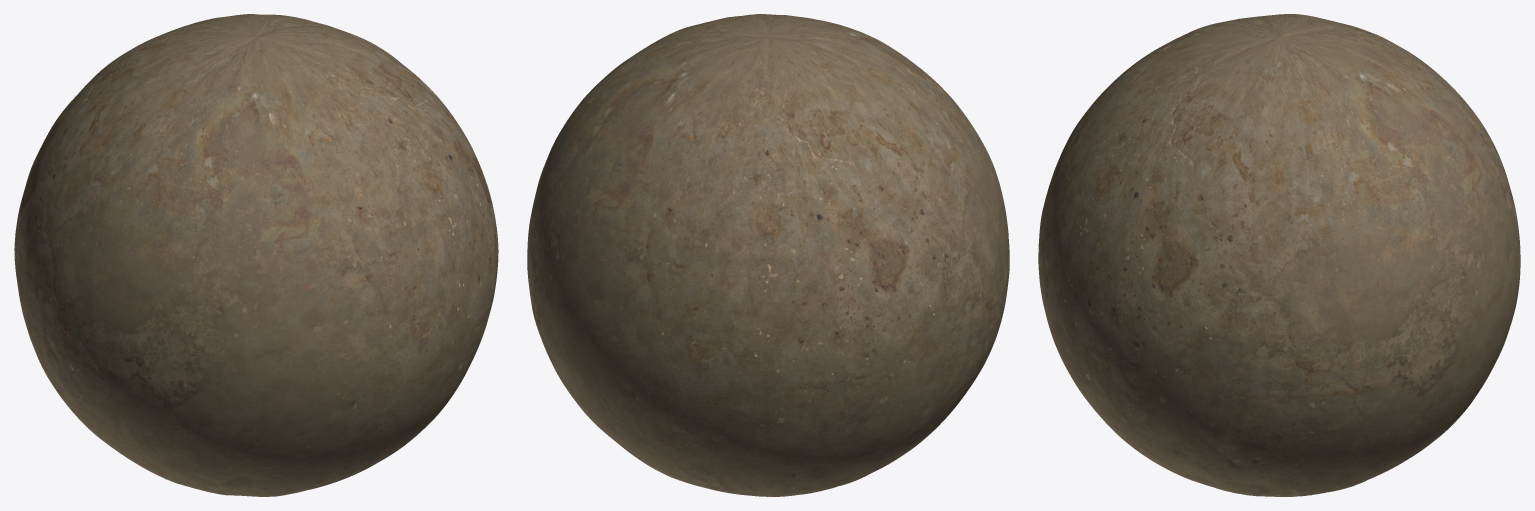
The model's file is garage_floor_2k.gltf.
3 renders of one model, left to right at view 1: azimuth 30°, elevation 25°; view 2: azimuth 150°, elevation 25°; view 3: azimuth 270°, elevation 25°, orthographic.
Visible parts, largest first — view 1: sphere_gltf; view 2: sphere_gltf; view 3: sphere_gltf.
Boxes of the visible parts, x1=… form: sphere_gltf: x1=14, y1=14, x2=498, y2=496; sphere_gltf: x1=527, y1=14, x2=1009, y2=496; sphere_gltf: x1=1038, y1=14, x2=1520, y2=496.
Size of the model in its own units: 1.88 by 1.89 by 1.88.
Materials: 1 (1 with a texture image).
